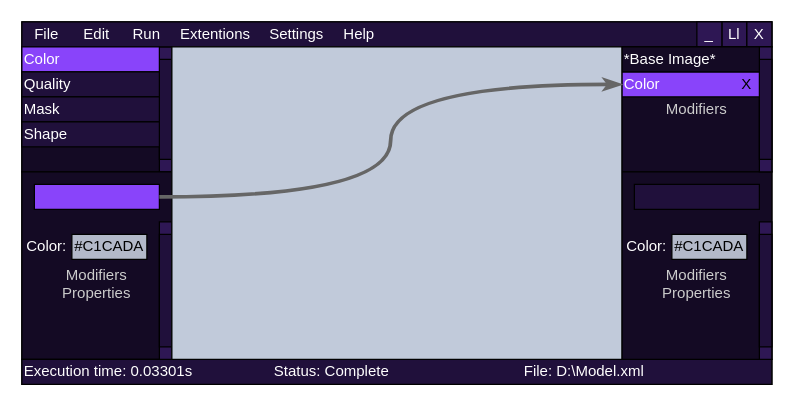
Some shapes in this 794 by 406 pixel diagram are drawn without their labels. Each missing label, with the box of its shape:
Apply: (33, 183, 159, 209)
Update: (633, 183, 759, 209)
